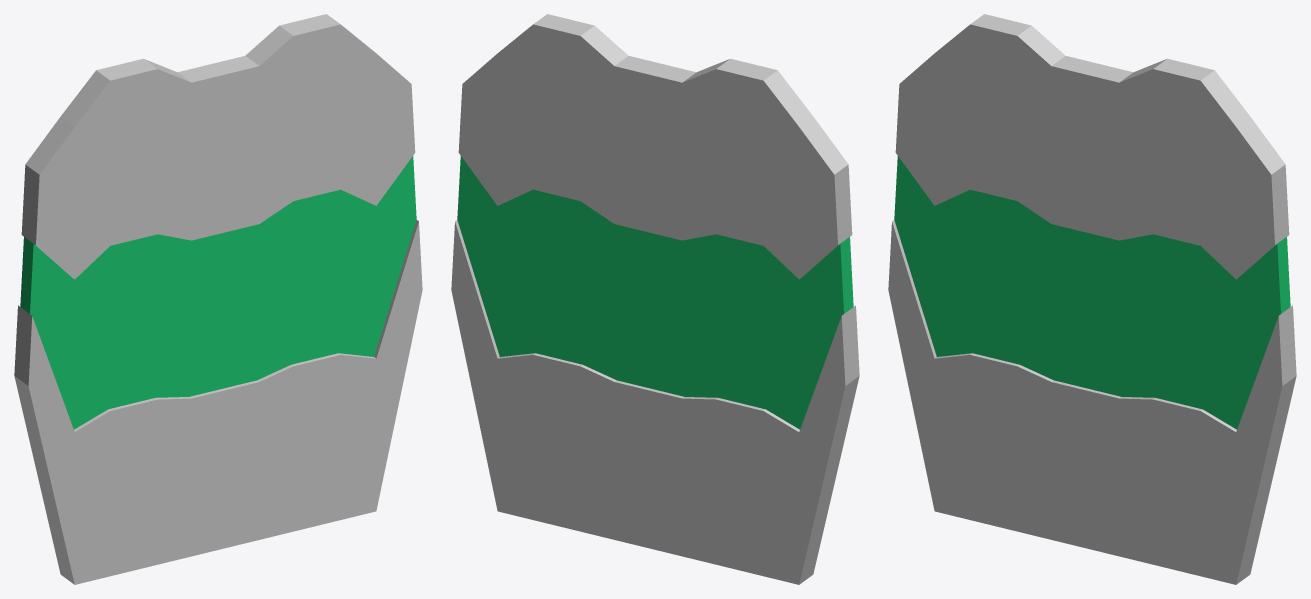
File: corridor-small_door.fbx
The picture shows the model from 3 angles, left to right: view 1: azimuth 30°, elevation 25°; view 2: azimuth 150°, elevation 25°; view 3: azimuth 330°, elevation 25°; orthographic projection.
Parts seen in each view (by area): view 1: corridor_small_door; view 2: corridor_small_door; view 3: corridor_small_door.
Boxes of the visible parts, bbox=[...] form: corridor_small_door: bbox=[14, 14, 422, 584]; corridor_small_door: bbox=[451, 14, 859, 584]; corridor_small_door: bbox=[888, 14, 1296, 584].
Size of what is drawn, in the model's own units: 181 by 218 by 11.35.
